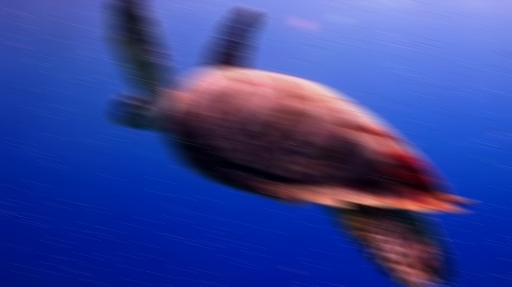Fish: (111, 0, 468, 286)
